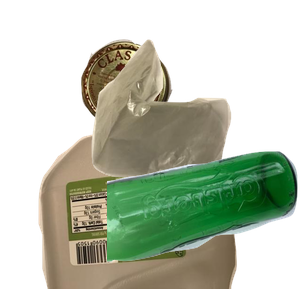glass: (107, 149, 300, 300)
metal: (78, 37, 243, 163)
plastic: (36, 120, 265, 300)
trash: (89, 37, 300, 213)
